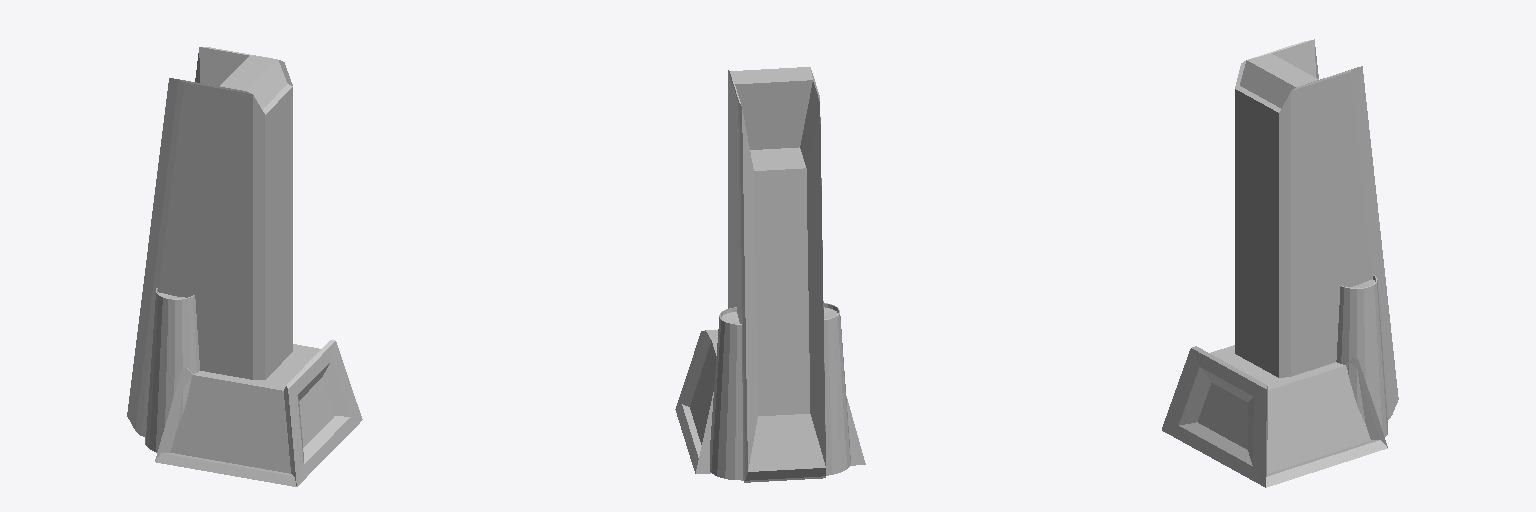
The model's file is building7.obj.
3 views of the same model, side by side, from view 1: azimuth 30°, elevation 25°; view 2: azimuth 150°, elevation 25°; view 3: azimuth 270°, elevation 25° (orthographic).
Parts seen in each view (by area): view 1: Downtown_Center_City.1464_Downtown_Center_City.1525; view 2: Downtown_Center_City.1464_Downtown_Center_City.1525; view 3: Downtown_Center_City.1464_Downtown_Center_City.1525.
Boxes of the visible parts, x1,y1,x2,y2 form: Downtown_Center_City.1464_Downtown_Center_City.1525: [127, 47, 362, 486]; Downtown_Center_City.1464_Downtown_Center_City.1525: [675, 67, 865, 482]; Downtown_Center_City.1464_Downtown_Center_City.1525: [1162, 39, 1398, 487].
Size of the model in its own units: 47.74 by 83.87 by 49.26.